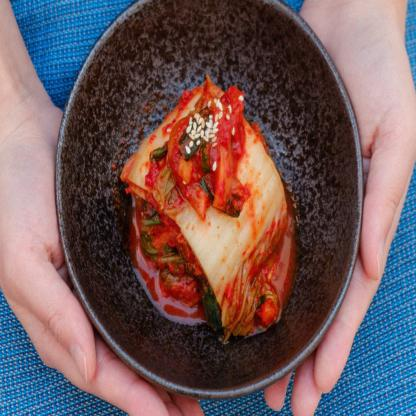kimchi: (109, 87, 298, 331)
